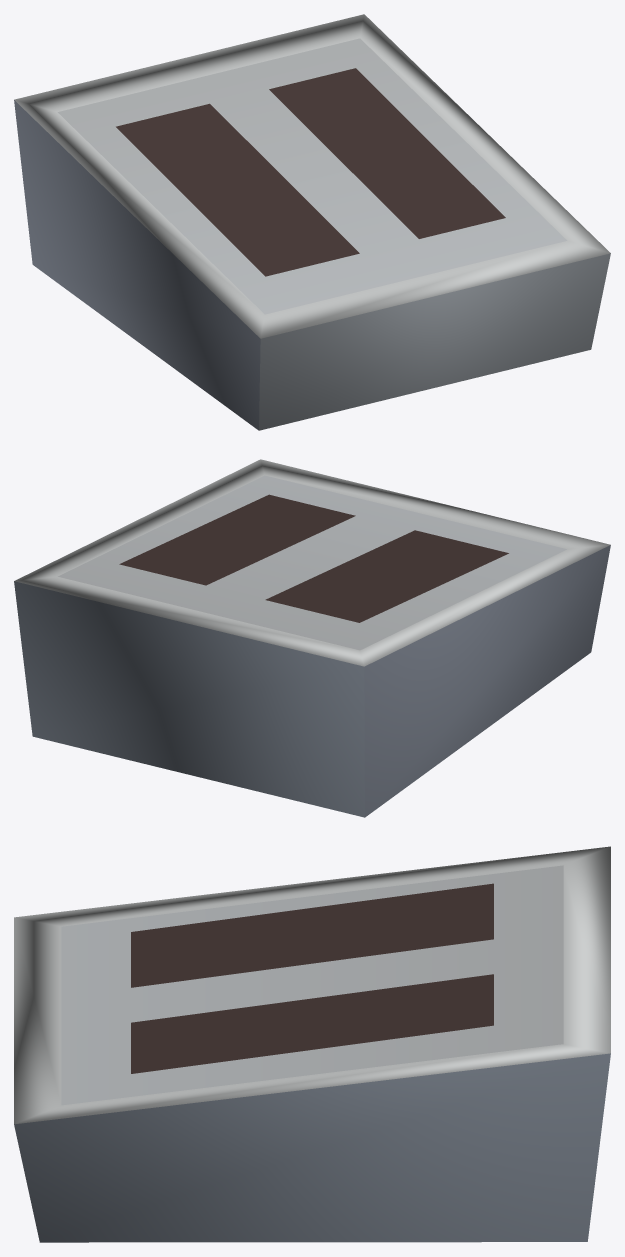
File: PartySubSwitch.glb
3 renders of one model, top to bottom at view 1: azimuth 30°, elevation 25°; view 2: azimuth 150°, elevation 25°; view 3: azimuth 270°, elevation 25°, orthographic. The views are drawn at different scales.
Parts seen in each view (by area): view 1: PartySubSwitch; view 2: PartySubSwitch; view 3: PartySubSwitch.
Boxes of the visible parts, left/top/right/bottom form: PartySubSwitch: left=14, top=14, right=610, bottom=430; PartySubSwitch: left=14, top=459, right=610, bottom=817; PartySubSwitch: left=14, top=846, right=610, bottom=1242.
Size of the model in its own units: 0.5396 by 0.2364 by 0.6577.
